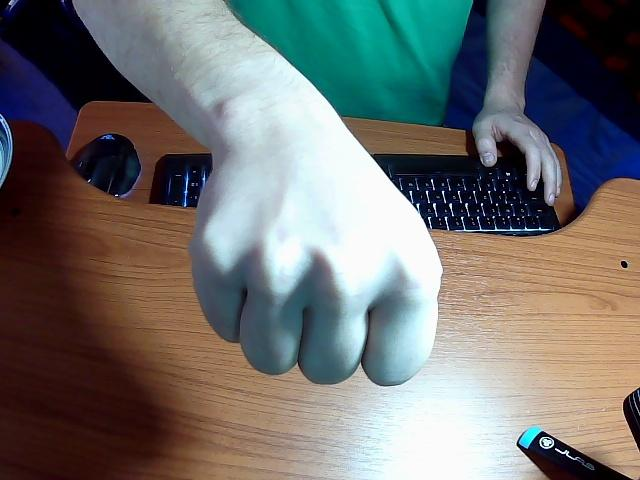rock: (190, 56, 441, 385)
